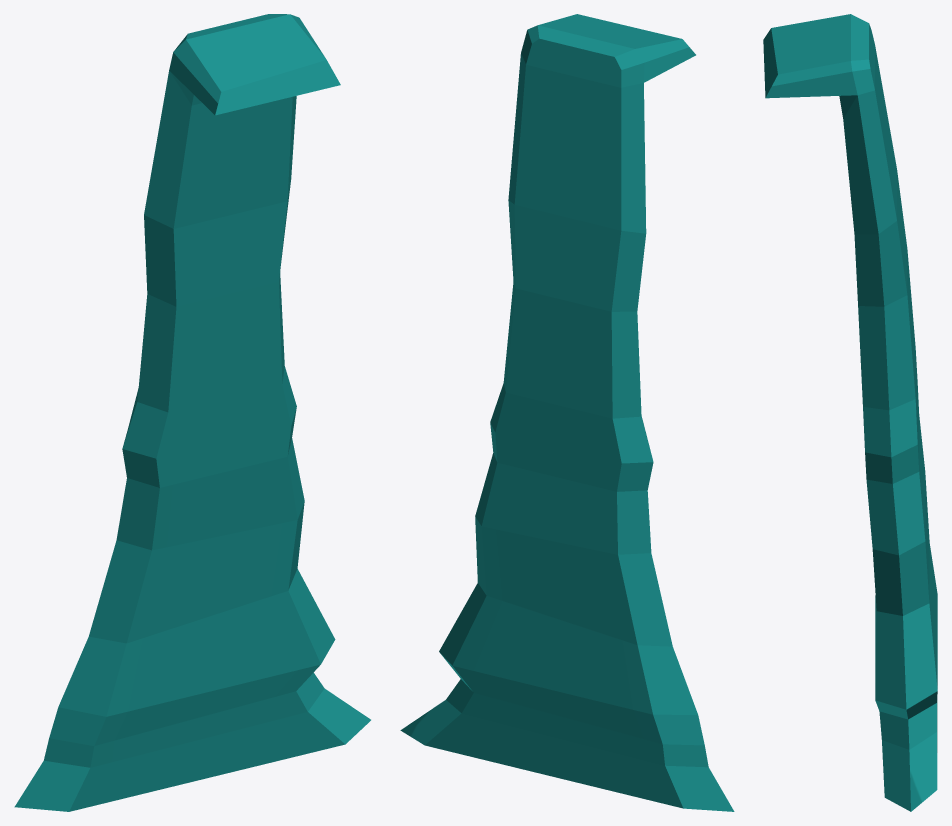
The model's file is CascadaAnimada.obj.
3 views of the same model, side by side, from view 1: azimuth 30°, elevation 25°; view 2: azimuth 150°, elevation 25°; view 3: azimuth 270°, elevation 25° (orthographic). The views are drawn at different scales.
Parts seen in each view (by area): view 1: Cube.053, Cube.054; view 2: Cube.053, Cube.054; view 3: Cube.053, Cube.054.
Boxes of the visible parts, x1=… form: Cube.053: x1=14, y1=14, x2=370, y2=811; Cube.054: x1=169, y1=14, x2=340, y2=115; Cube.053: x1=400, y1=25, x2=734, y2=811; Cube.054: x1=538, y1=14, x2=695, y2=82; Cube.053: x1=839, y1=14, x2=937, y2=811; Cube.054: x1=763, y1=14, x2=857, y2=98.
Bounding box in the file's own units: 136 × 277 × 62.31.
